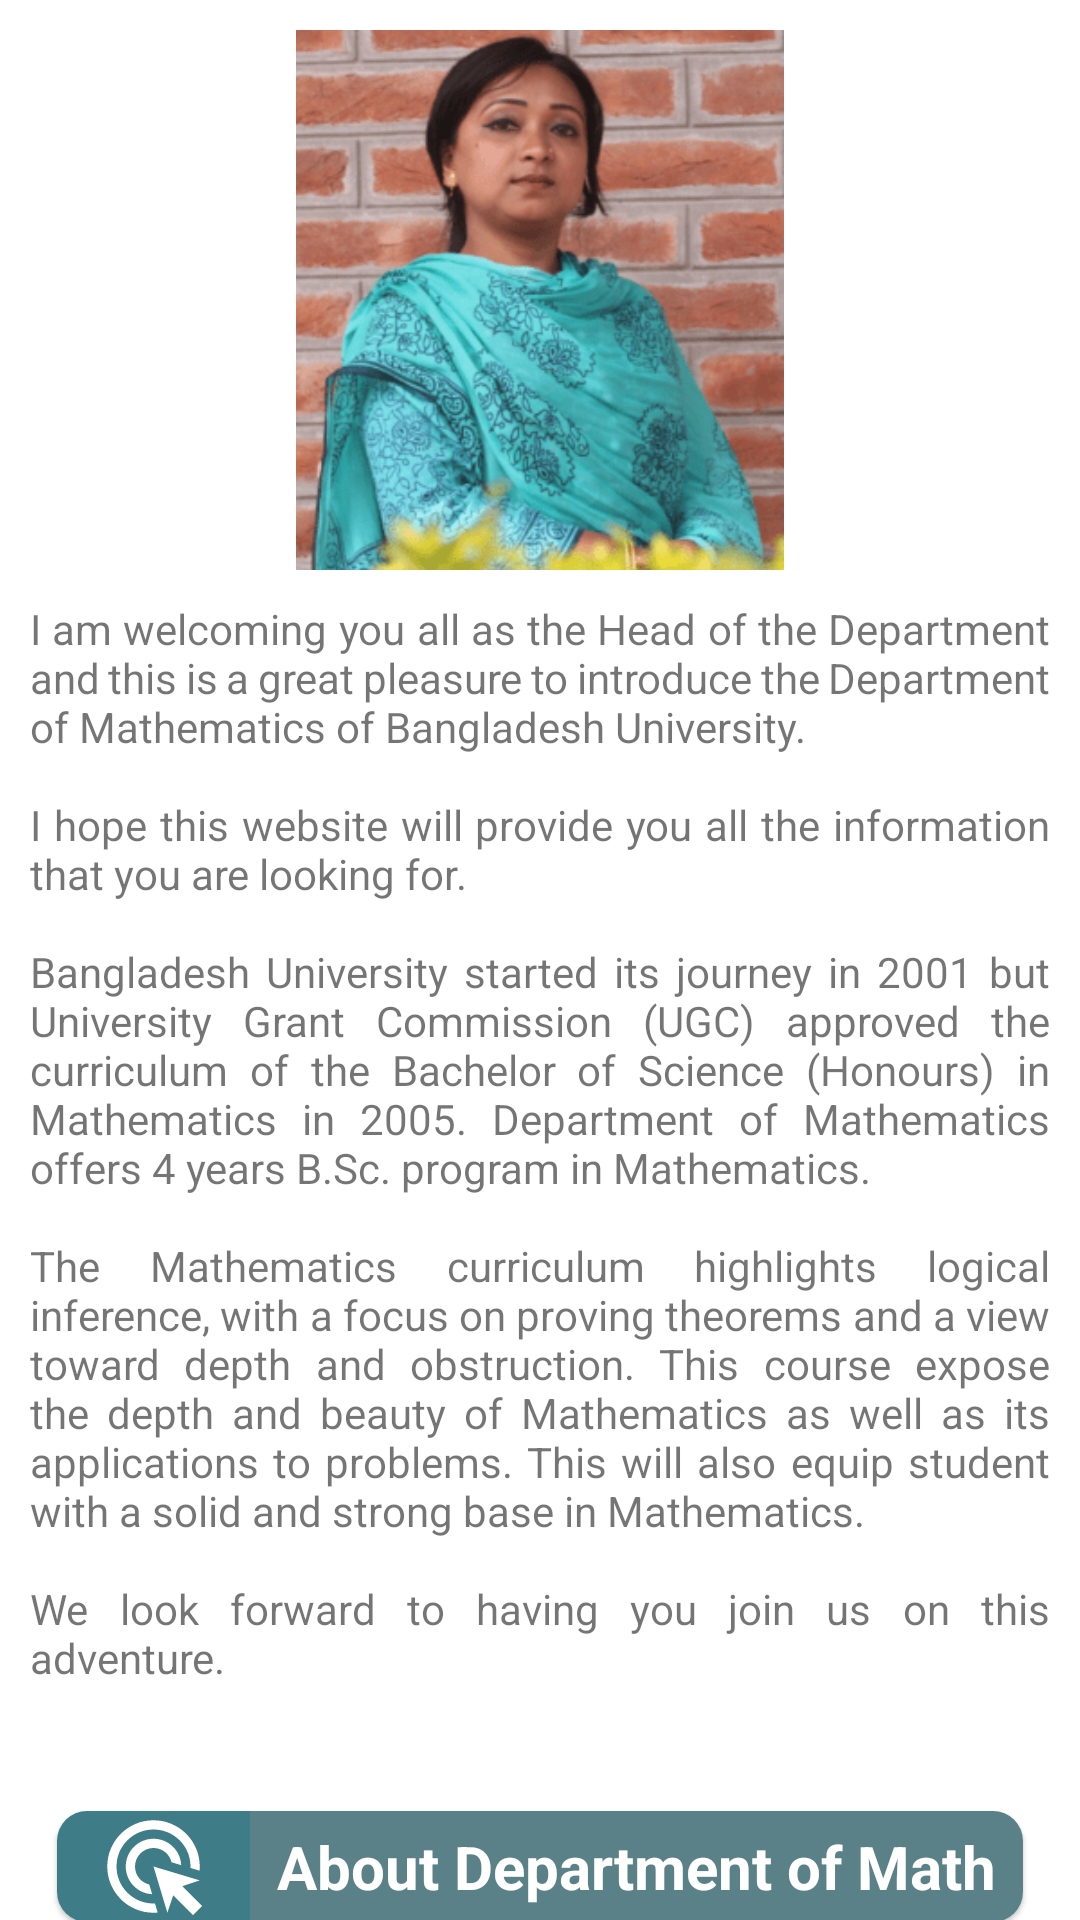

Icon click points for this 1080 × 1920 phone screenshot, format (x,y):
click: (153,1865)
